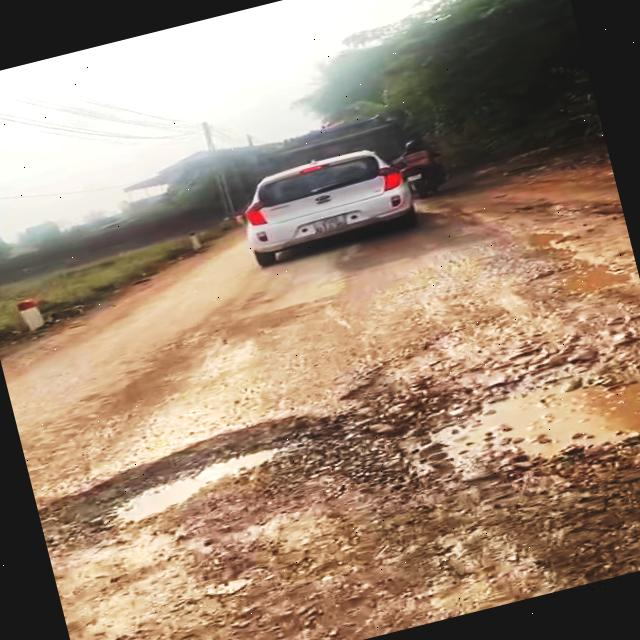pothole: (309, 279, 640, 520), (28, 397, 350, 570)
